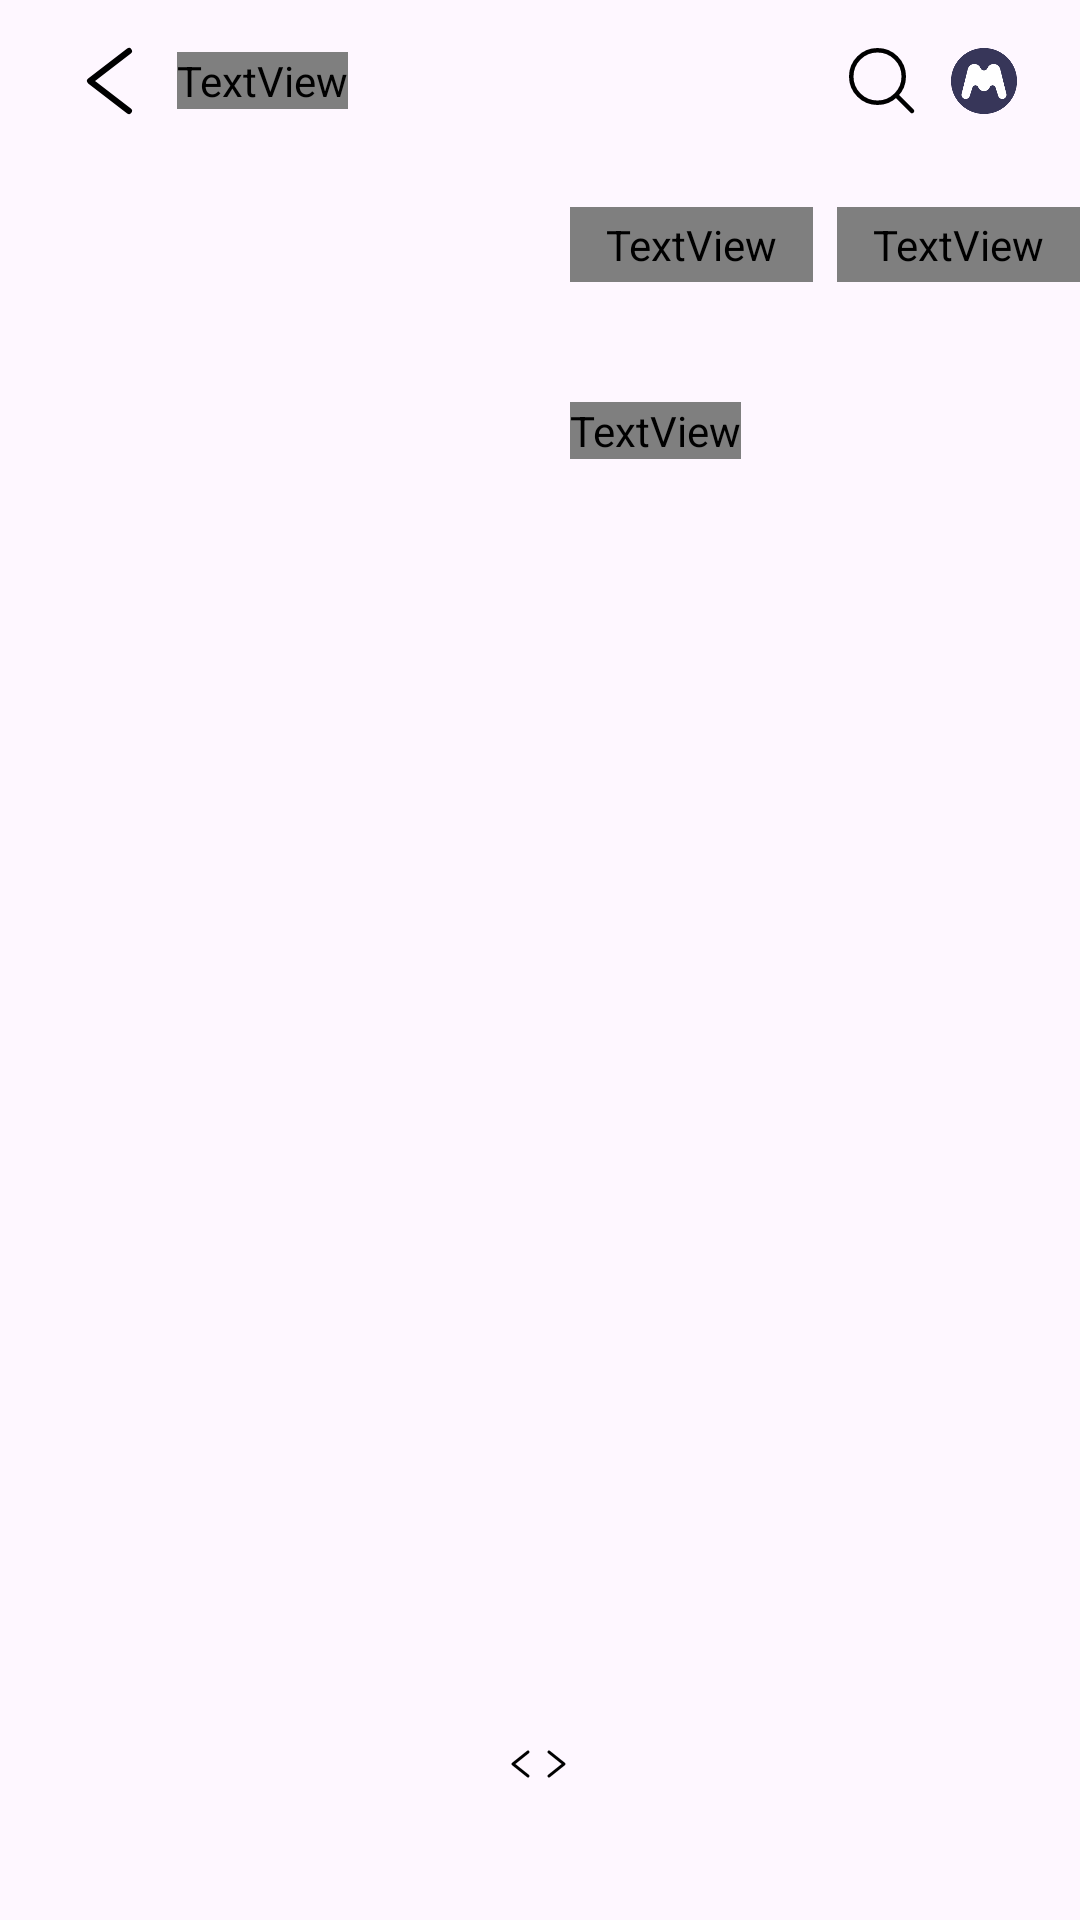

Where to tap for icons on this 1080x1920 app screen, as (x=x, y=y):
backbtn: (x=109, y=81)
profile: (x=984, y=81)
search left arrow: (x=520, y=1764)
search right arrow: (x=556, y=1764)
검색아이콘: (x=882, y=81)
